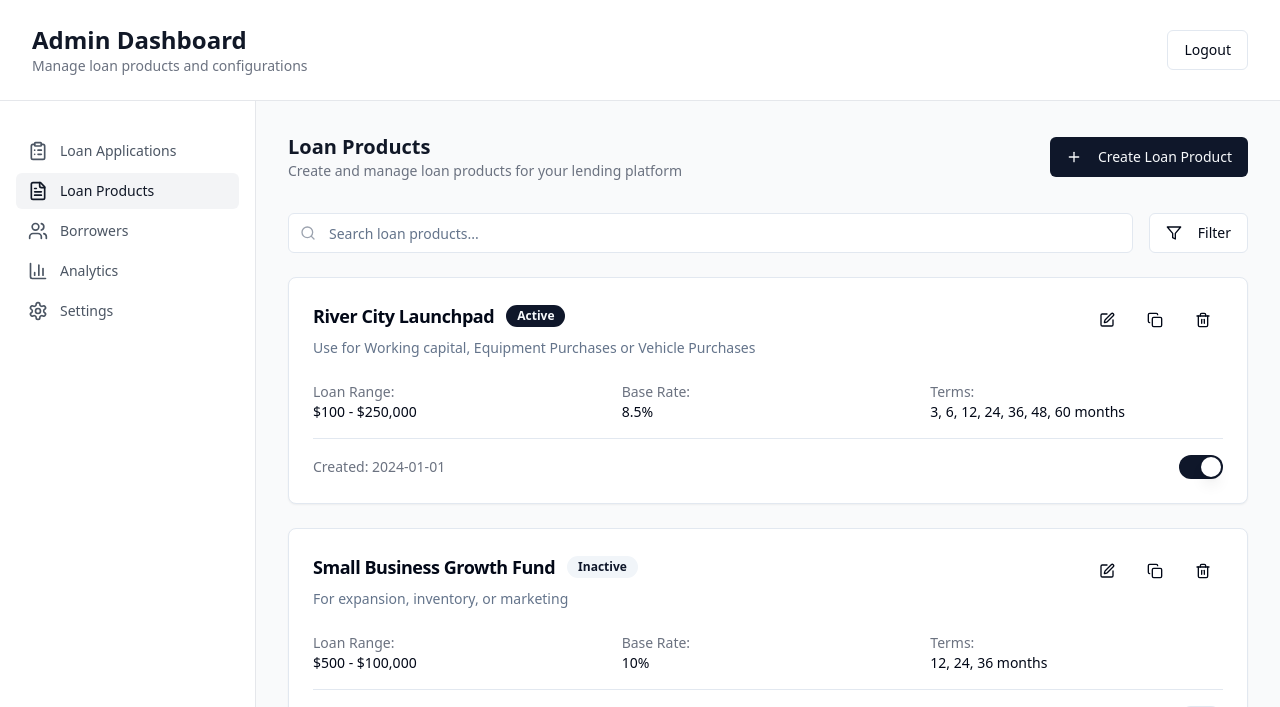
Test: AdminDashboard › filters loan products by search term
Expected: the heading "River City Launchpad" is shown, [313, 302, 494, 330]
In the field with placeholder "Search loan products...": (710, 233) [288, 213, 1133, 253], type "River"
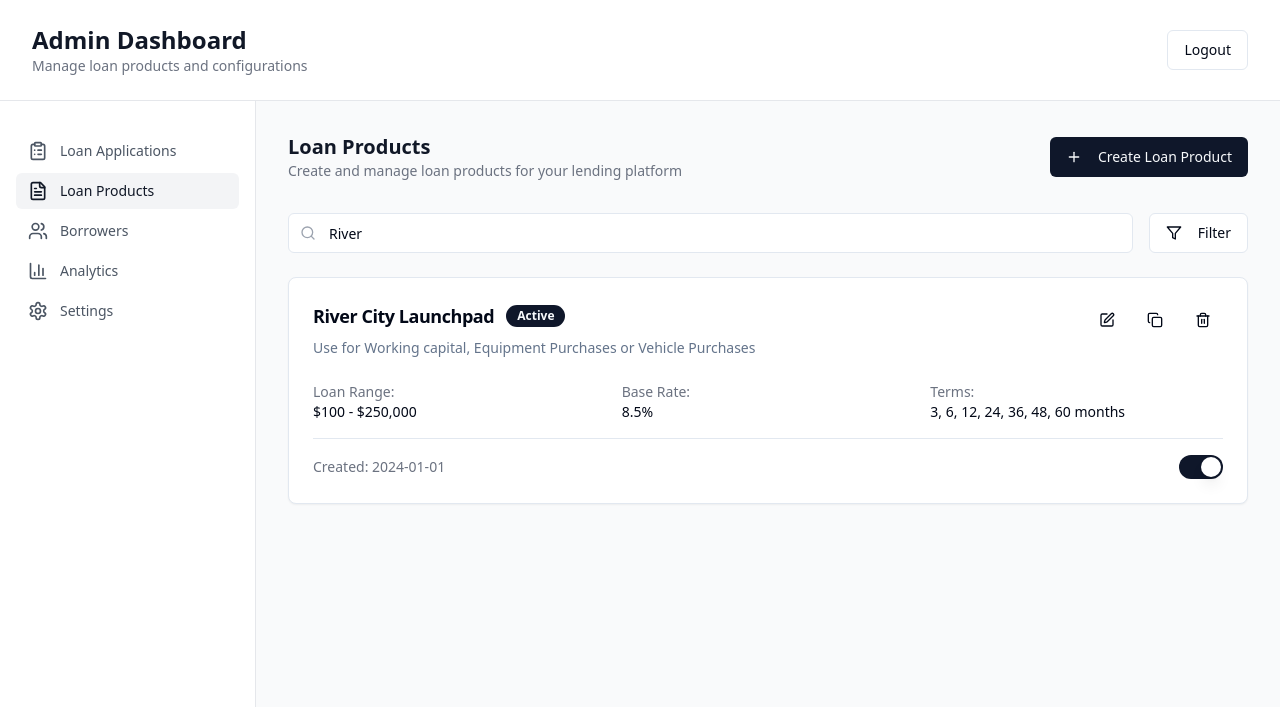
Expected: the heading "River City Launchpad" is shown, [313, 302, 494, 330]
Expected: the heading "Small Business Growth Fund" is gone
